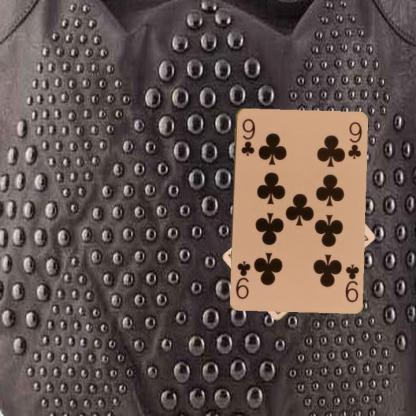9c: (238, 116, 257, 158), (342, 261, 360, 303)
